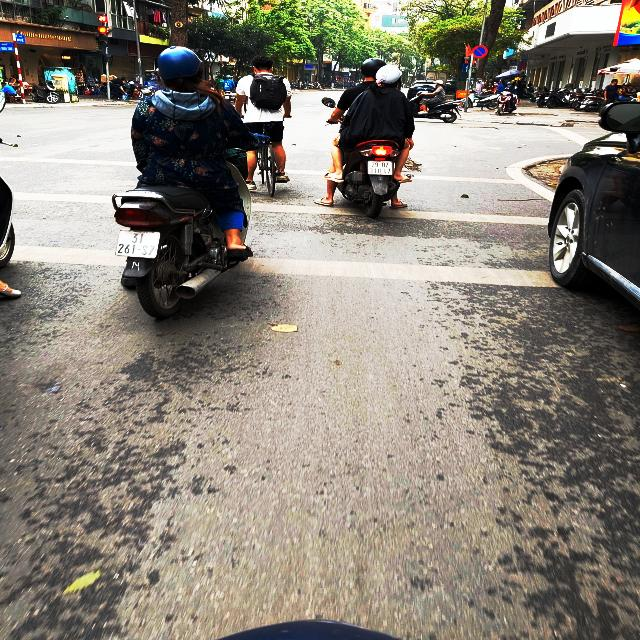license_plate: (114, 228, 164, 261), (368, 160, 396, 177)
